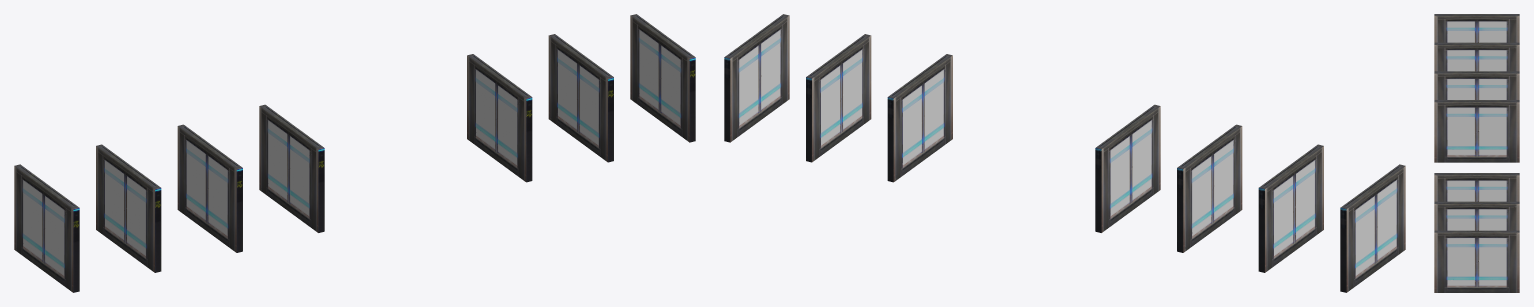
File: Tourniquet02a_Group.FBX
3 views of the same model, side by side, from view 1: azimuth 30°, elevation 25°; view 2: azimuth 150°, elevation 25°; view 3: azimuth 270°, elevation 25° (orthographic). The views are drawn at different scales.
Visible parts, largest first — view 1: Tourniquet02a_Group; view 2: Tourniquet02a_Group; view 3: Tourniquet02a_Group.
Part boxes in pixels (x1,y1,x2,y2): Tourniquet02a_Group: [14, 14, 695, 292]; Tourniquet02a_Group: [724, 14, 1405, 292]; Tourniquet02a_Group: [1434, 14, 1519, 292].
Size of the model in its own units: 9714 by 1250 by 1600.
